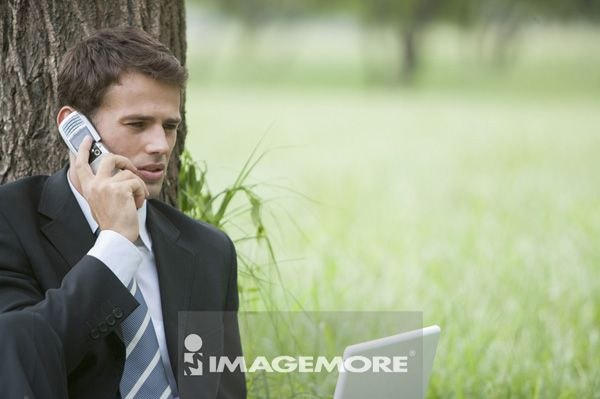phone: (62, 110, 121, 186)
talk: (61, 100, 180, 235)
